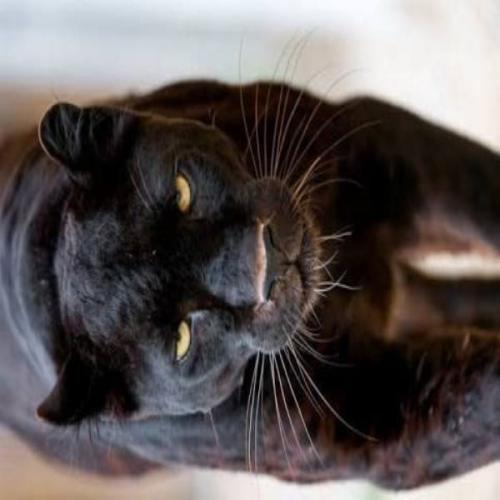panther-endangered: (4, 82, 500, 472)
